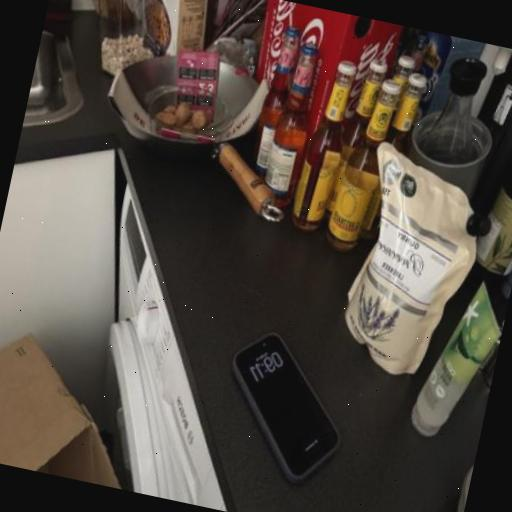phone: (190, 323, 340, 498)
